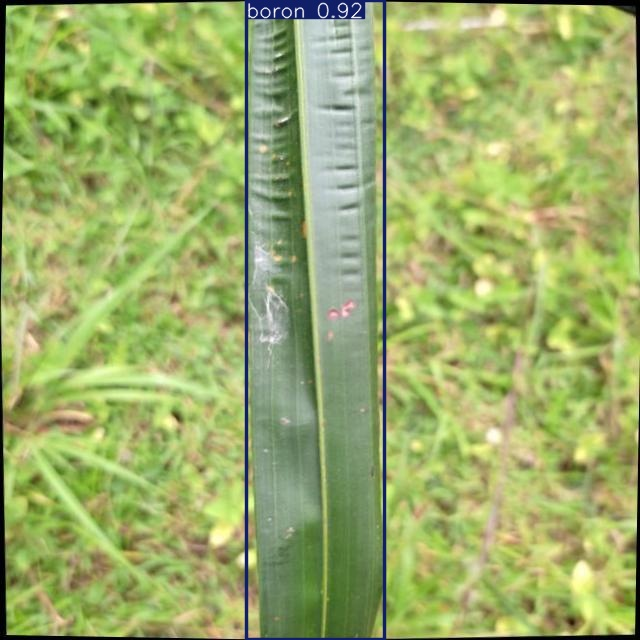nitrogen: (246, 1, 385, 639)
